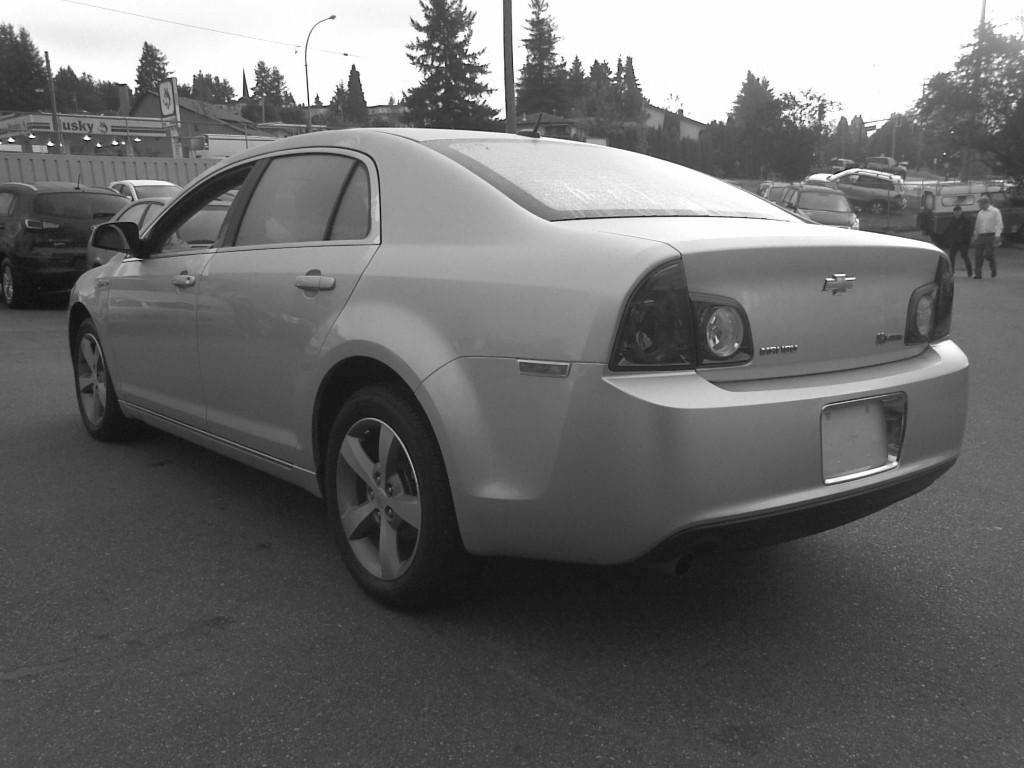car: (62, 116, 974, 610)
